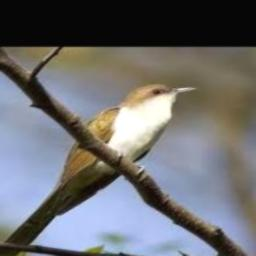Cuckoo: (0, 84, 198, 256)
